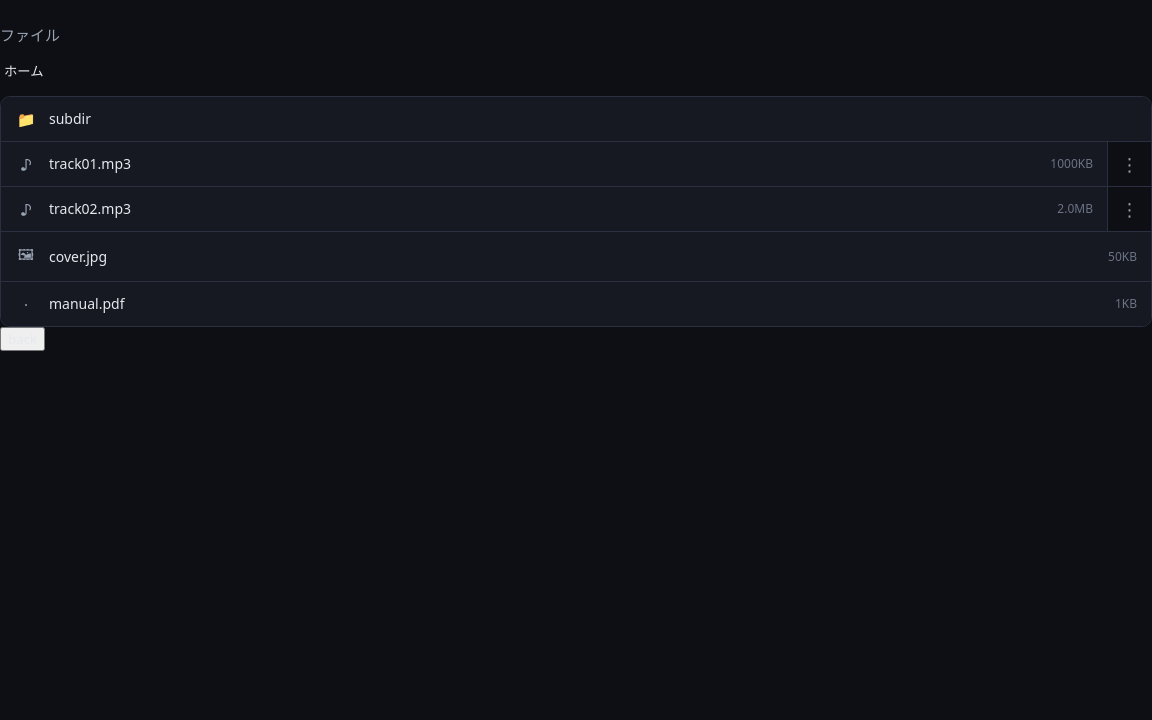
Test: FileBrowser キュー操作の store 検証 › 「キューを置き換えて再生」: queue が 1 曲になり isPlaying=true
Expected: the text "track01.mp3" is shown, [49,154,131,173]
What coordinates should you click on to do the following:
click the button named "track01.mp3 のキュー操作"
I would click on:
 (1129, 164)
Its box is [1107,142,1151,186].
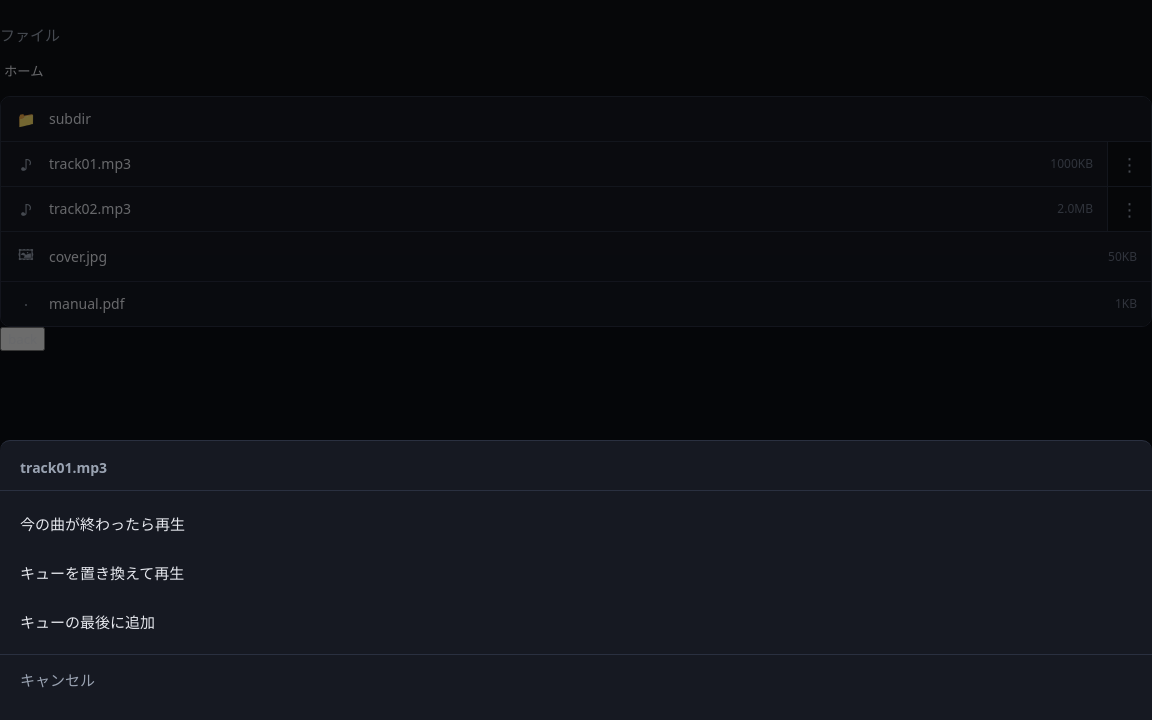
What coordinates should you click on to do the following:
click the button "キューを置き換えて再生"
I would click on:
 (102, 573)
Its box is [0,548,1151,597].
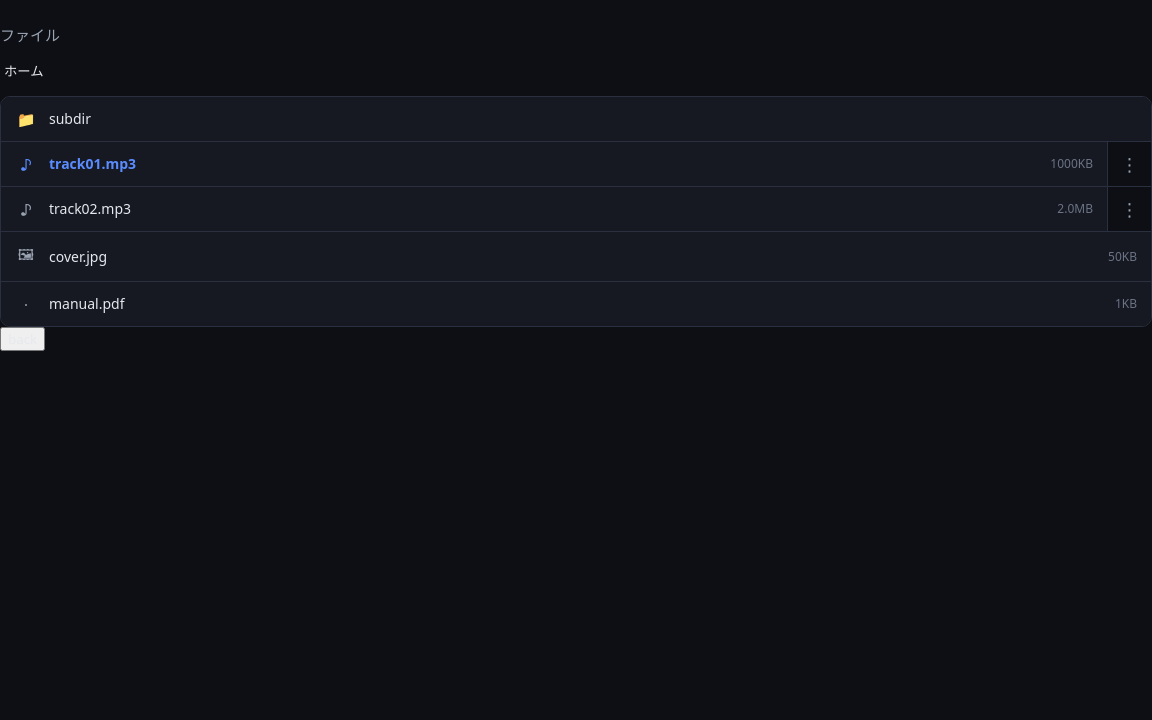
Expected: the text "track01.mp3" is shown, [49,154,136,173]
Result: the dialog is gone
